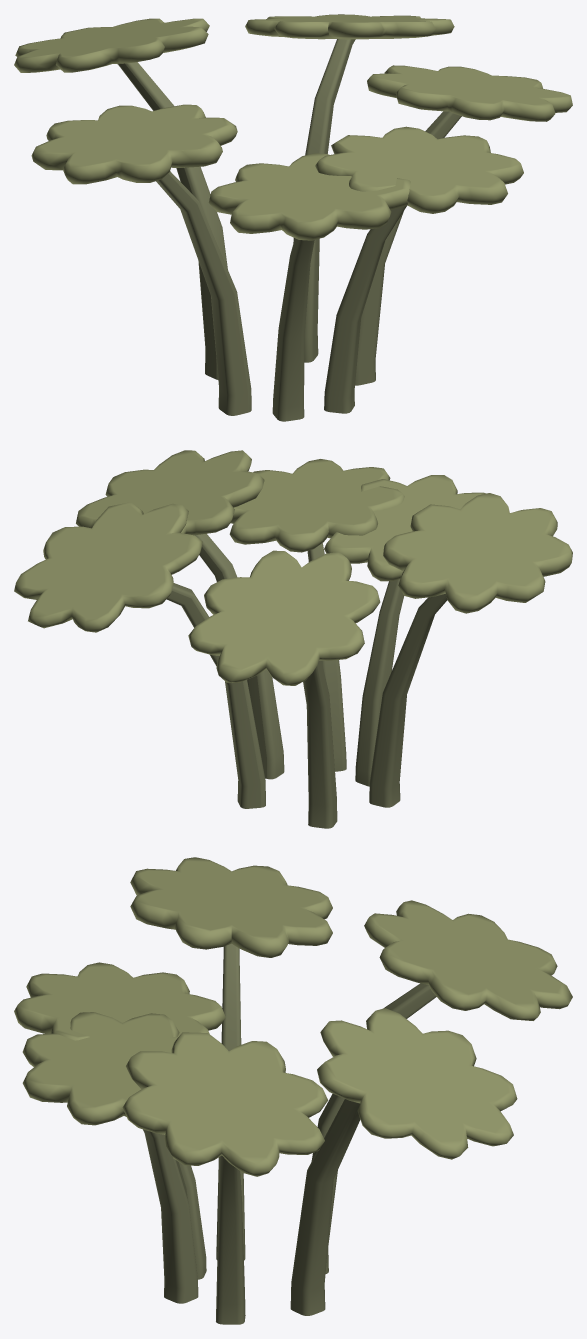
3 views of the same model, one above another, from view 1: azimuth 30°, elevation 25°; view 2: azimuth 150°, elevation 25°; view 3: azimuth 270°, elevation 25° (orthographic). The views are drawn at different scales.
Visible parts, largest first — view 1: Root; view 2: Root; view 3: Root.
Part boxes in pixels (bbox=[...]): Root: bbox=[14, 14, 572, 421]; Root: bbox=[14, 450, 572, 828]; Root: bbox=[14, 857, 572, 1324].
Bounding box in the file's own units: 0.1245 × 0.0756 × 0.1161.
